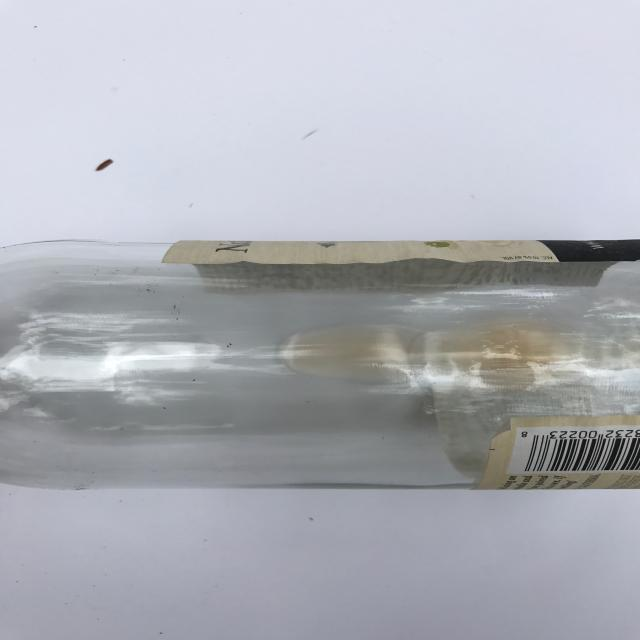glass: (1, 211, 640, 522)
